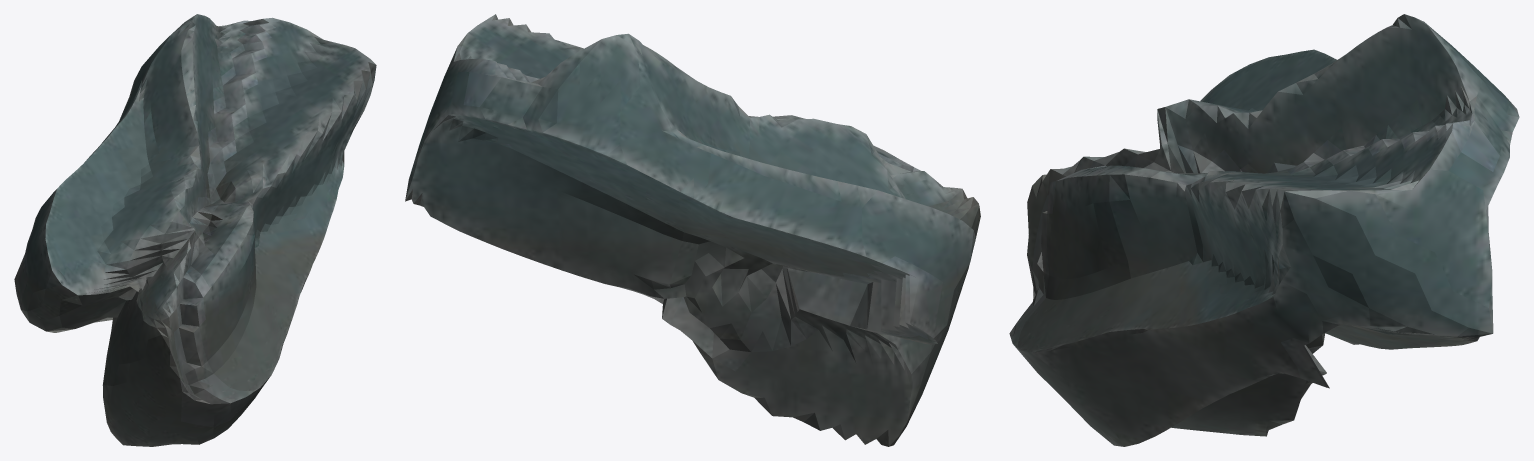
The model's file is medium-oxide-asteroid.glb.
The picture shows the model from 3 angles, left to right: view 1: azimuth 30°, elevation 25°; view 2: azimuth 150°, elevation 25°; view 3: azimuth 270°, elevation 25°; orthographic projection. The views are drawn at different scales.
Parts seen in each view (by area): view 1: body; view 2: body; view 3: body.
Boxes of the visible parts, x1=… form: body: x1=14, y1=14, x2=376, y2=446; body: x1=405, y1=14, x2=980, y2=446; body: x1=1009, y1=14, x2=1519, y2=446.
Size of the model in its own units: 3.17 by 2.86 by 2.62.
1 material, 1 textured.
